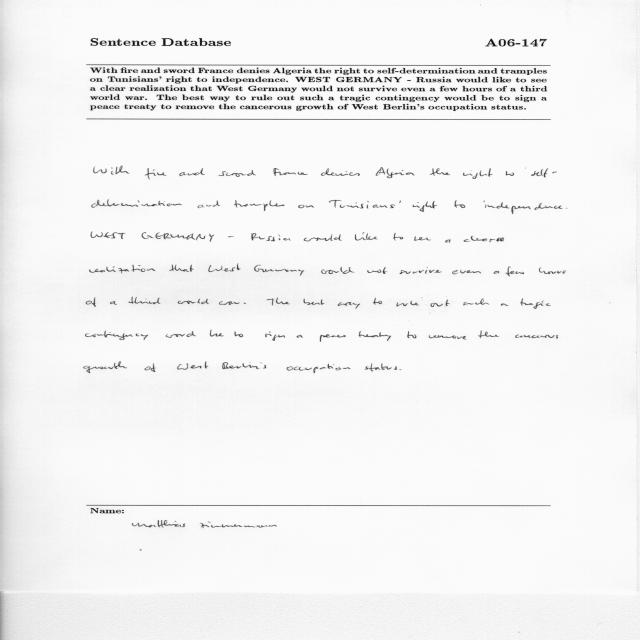word: (483, 201, 563, 214), (142, 232, 215, 242), (92, 200, 182, 208), (329, 200, 401, 209), (287, 364, 351, 374), (90, 265, 156, 274), (234, 200, 285, 211), (86, 331, 148, 340), (254, 265, 304, 276), (84, 362, 127, 373), (376, 167, 415, 178), (520, 298, 551, 309), (525, 168, 558, 178), (358, 331, 391, 341), (463, 168, 492, 179), (94, 166, 129, 175), (321, 168, 360, 176), (252, 233, 291, 241), (222, 362, 266, 369), (400, 267, 442, 274), (365, 363, 397, 372), (273, 168, 308, 176), (304, 235, 342, 242), (413, 201, 437, 212), (208, 264, 241, 272), (219, 170, 256, 177), (177, 362, 208, 370), (91, 232, 125, 239), (321, 267, 355, 274), (145, 168, 166, 179), (128, 297, 161, 304), (166, 331, 197, 338), (179, 168, 205, 176), (320, 334, 346, 342), (169, 264, 194, 272), (355, 232, 377, 241), (464, 236, 496, 242), (429, 335, 466, 340), (267, 298, 290, 306), (463, 299, 489, 306), (506, 266, 524, 276), (265, 332, 285, 341), (198, 201, 220, 209), (515, 335, 558, 339), (478, 331, 499, 339), (539, 268, 566, 274), (430, 168, 450, 176), (430, 299, 450, 307), (178, 299, 209, 304), (338, 302, 360, 309), (367, 267, 387, 274), (303, 299, 325, 305), (452, 270, 481, 274), (396, 301, 419, 306), (86, 297, 96, 307), (145, 363, 156, 372), (210, 330, 224, 337), (454, 200, 465, 208), (219, 301, 240, 305), (393, 233, 403, 241), (407, 331, 417, 338), (414, 237, 431, 241), (373, 298, 382, 305), (235, 331, 244, 337), (298, 205, 314, 208), (506, 171, 514, 176), (496, 237, 504, 242), (110, 301, 117, 305), (445, 239, 451, 243), (501, 303, 509, 306), (494, 271, 500, 274), (297, 335, 303, 338), (228, 237, 234, 238), (243, 303, 246, 304), (400, 369, 402, 370), (566, 208, 567, 209)
